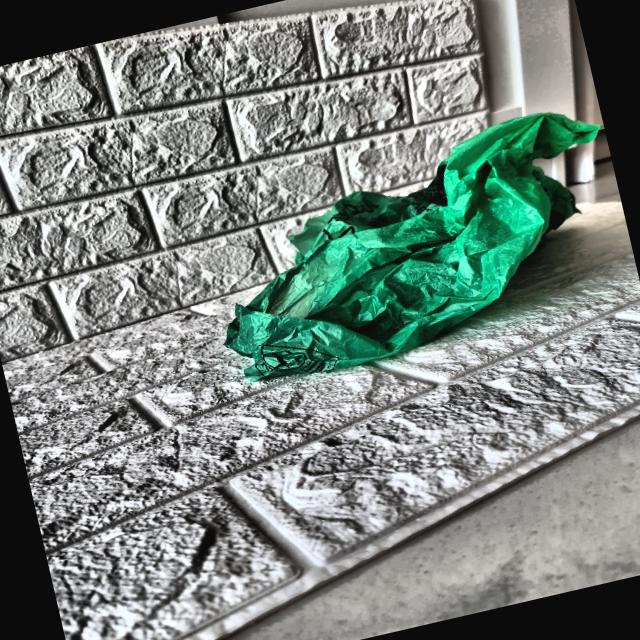plastic bag: (173, 75, 640, 418)
